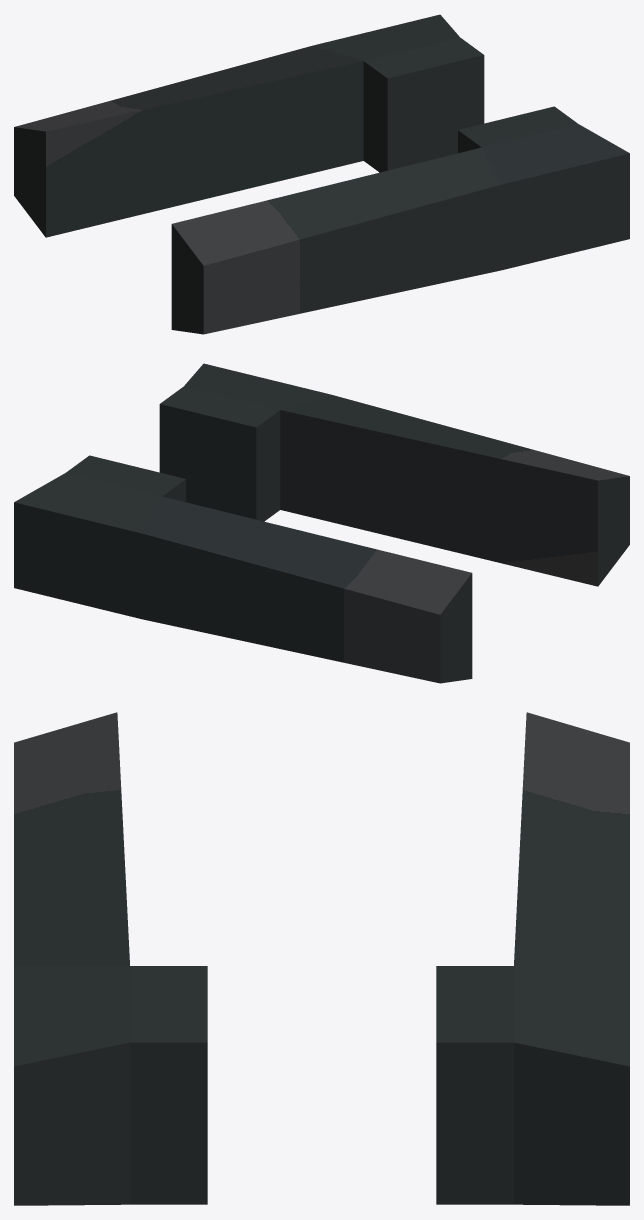
The model's file is gate_handle.glb.
3 views of the same model, one above another, from view 1: azimuth 30°, elevation 25°; view 2: azimuth 150°, elevation 25°; view 3: azimuth 270°, elevation 25° (orthographic). The views are drawn at different scales.
Visible parts, largest first — view 1: gate_handle; view 2: gate_handle; view 3: gate_handle.
Part boxes in pixels (bbox=[...]): gate_handle: bbox=[14, 14, 629, 334]; gate_handle: bbox=[14, 363, 629, 683]; gate_handle: bbox=[14, 712, 629, 1205].
Bounding box in the file's own units: 0.1097 × 0.0261 × 0.0845.
Materials: 1 (1 with a texture image).
